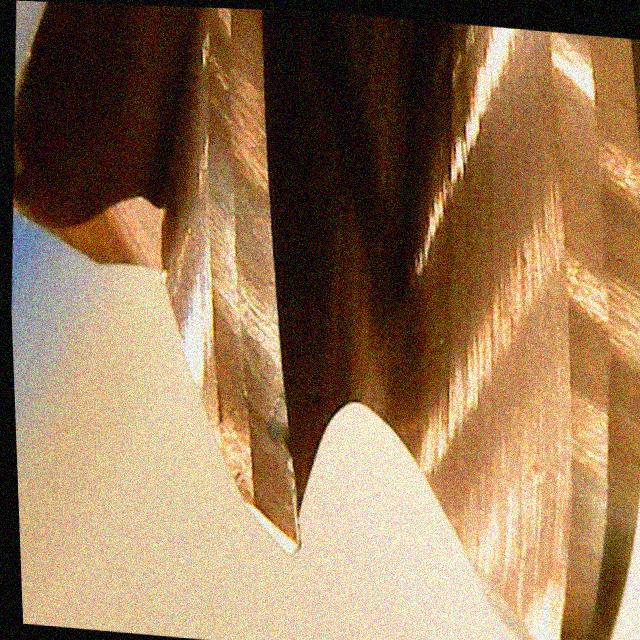Tool-wear-class-1: (159, 242, 337, 560)
